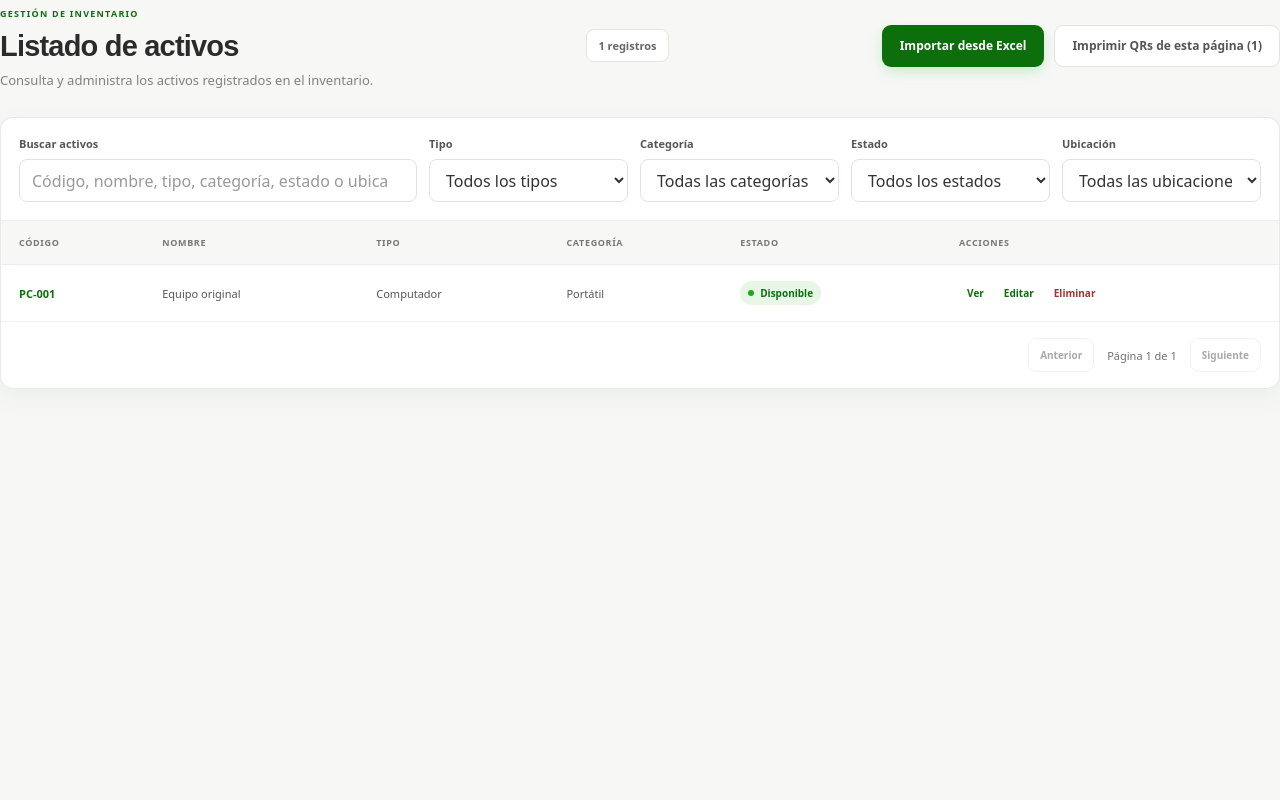
Edición de inventario › permite editar datos completos de un activo
Click the button "Editar": [1019, 293] box [996, 280, 1042, 306]
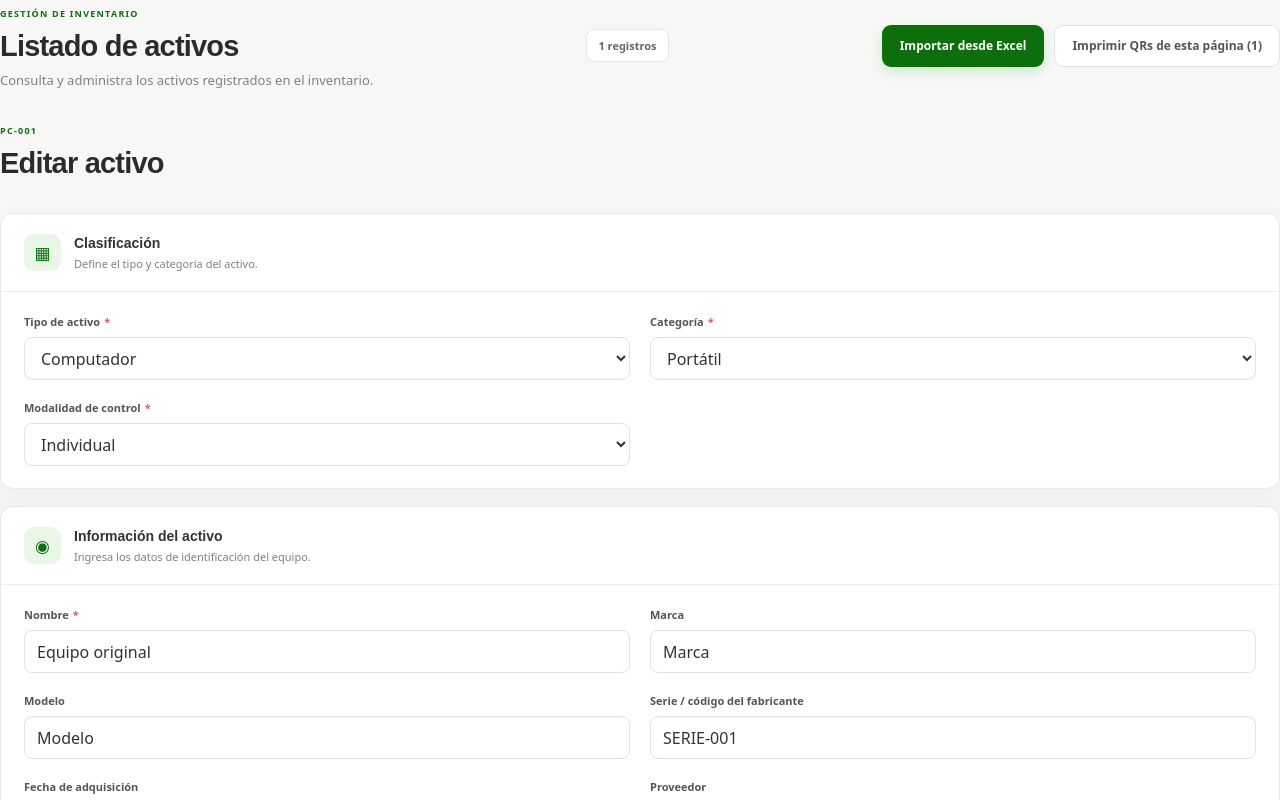
Replace the text in the field labelled "Nombre*" with "Equipo actualizado": [327, 652] box [24, 630, 630, 673]
(page scrolled)
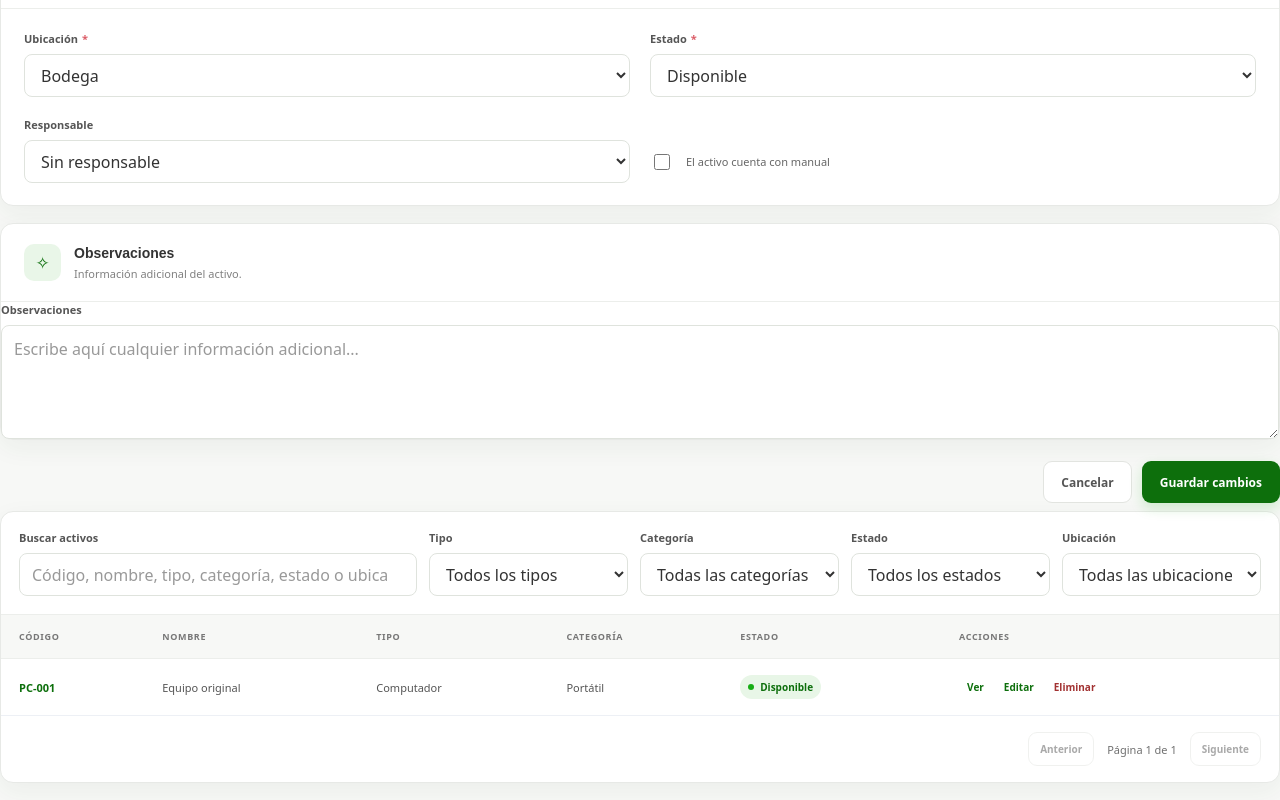
Click the button "Guardar cambios": [1211, 482] box [1142, 461, 1279, 503]
(page scrolled)
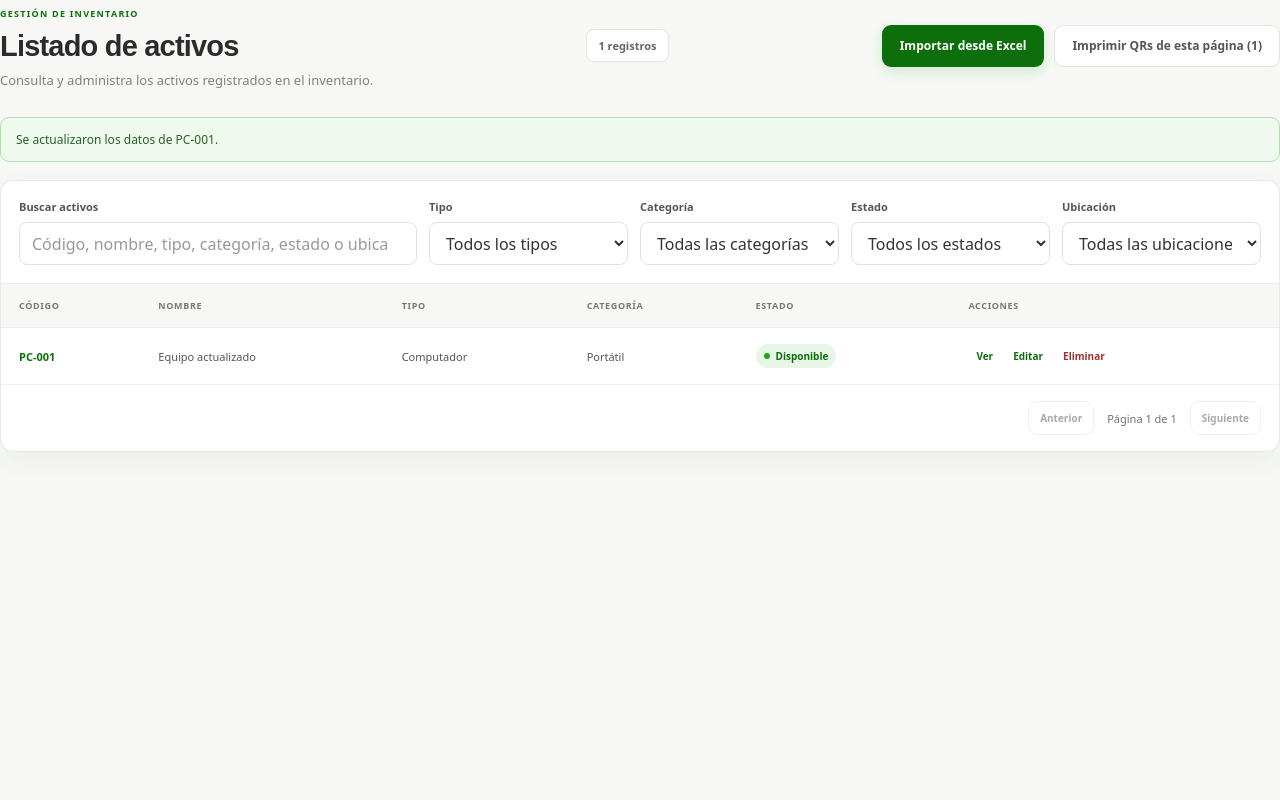
Now the text "Equipo actualizado" is shown, box [140, 328, 384, 384]
